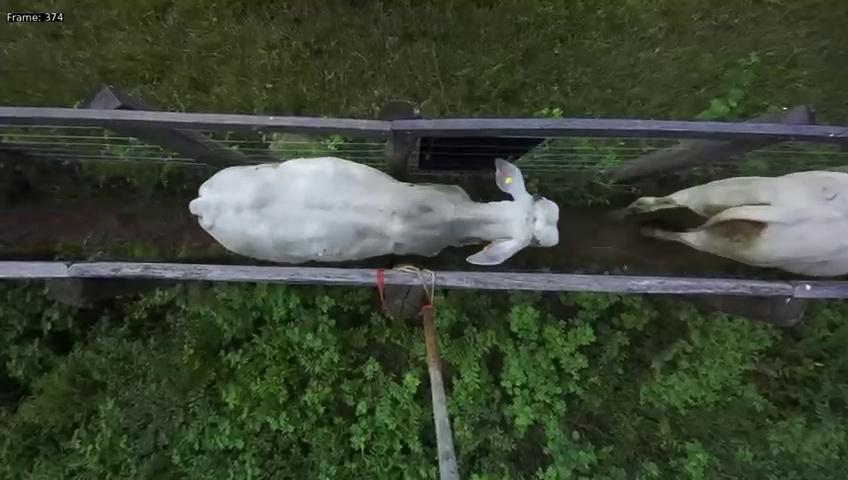cattle: (183, 136, 561, 266)
